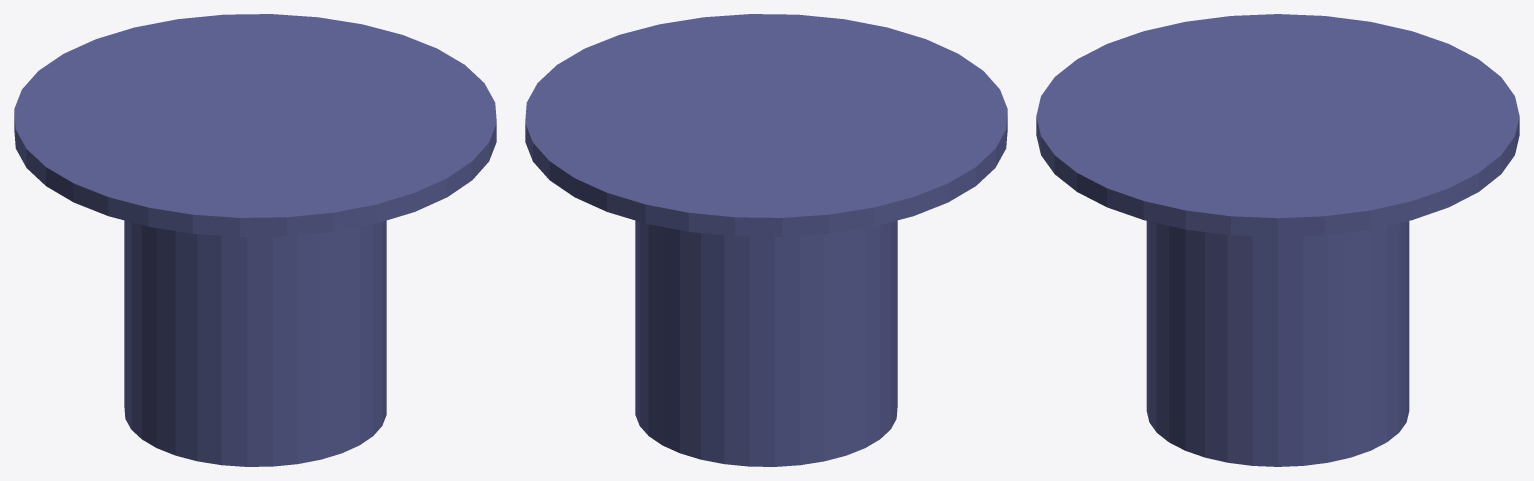
File: stand.fbx
3 renders of one model, left to right at view 1: azimuth 30°, elevation 25°; view 2: azimuth 150°, elevation 25°; view 3: azimuth 270°, elevation 25°, orthographic.
Parts seen in each view (by area): view 1: Table; view 2: Table; view 3: Table.
Part boxes in pixels (x1,y1,x2,y2): Table: (14,14,496,466); Table: (525,14,1007,466); Table: (1036,14,1519,466).
Size of the model in its own units: 272 by 183 by 272.
